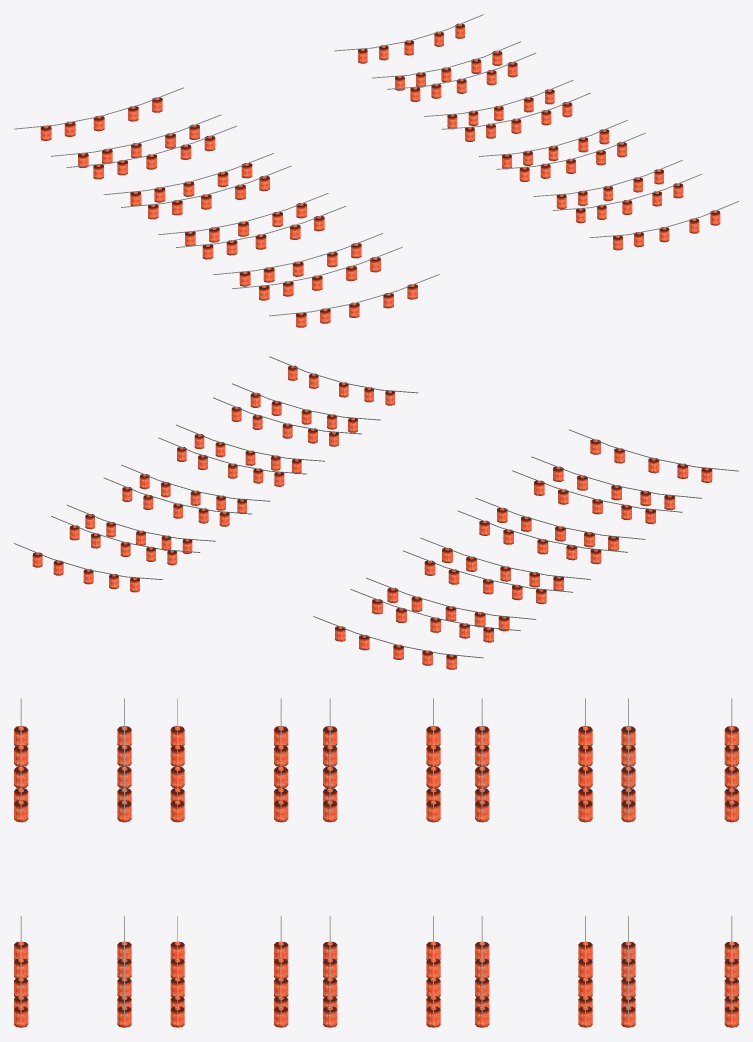
Rendered from LampV1.fbx.
The picture shows the model from 3 angles, top to bottom: view 1: azimuth 30°, elevation 25°; view 2: azimuth 150°, elevation 25°; view 3: azimuth 270°, elevation 25°; orthographic projection. The views are drawn at different scales.
Parts seen in each view (by area): view 1: Cylinder054_8; view 2: Cylinder054_8; view 3: Cylinder054_8.
Part boxes in pixels (x1,y1,x2,y2): Cylinder054_8: [14, 14, 738, 327]; Cylinder054_8: [14, 356, 738, 669]; Cylinder054_8: [14, 698, 738, 1027].
Bounding box in the file's own units: 1590 × 72.15 × 1527.
Materials: 1 (1 with a texture image).
